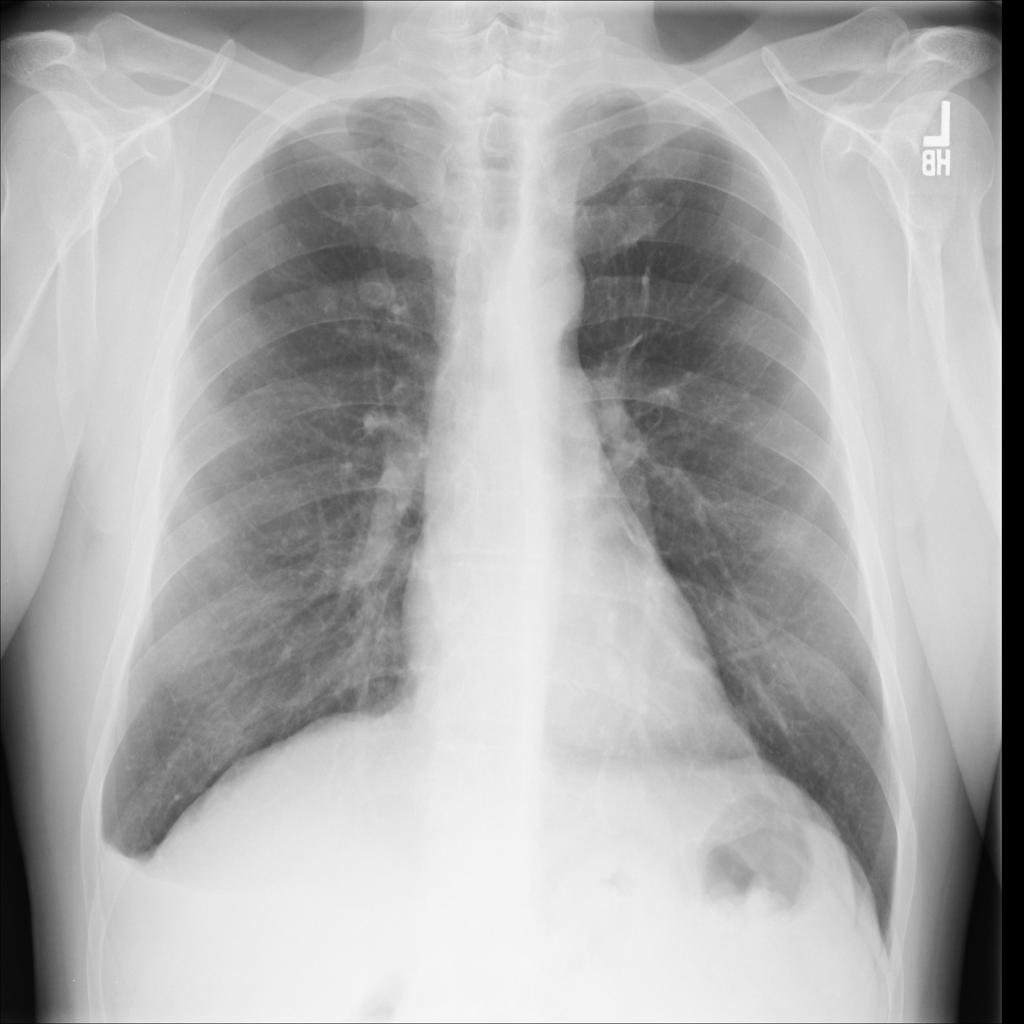nodule: (346, 255, 412, 327), (301, 268, 350, 321)
